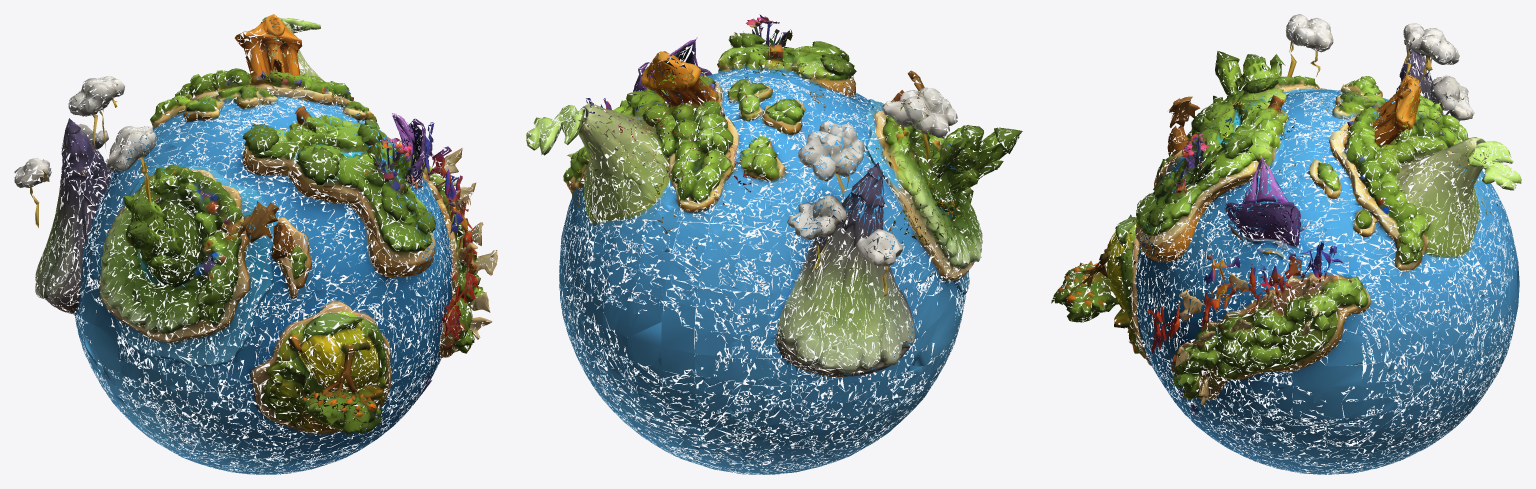
The model's file is planeta.glb.
3 views of the same model, side by side, from view 1: azimuth 30°, elevation 25°; view 2: azimuth 150°, elevation 25°; view 3: azimuth 270°, elevation 25° (orthographic). The views are drawn at different scales.
Visible parts, largest first — view 1: SM_Planeta; view 2: SM_Planeta; view 3: SM_Planeta.
Part boxes in pixels (box(x1,y1,x2,y2)): SM_Planeta: box(14, 14, 497, 474); SM_Planeta: box(526, 14, 1022, 474); SM_Planeta: box(1051, 14, 1521, 474).
Bounding box in the file's own units: 2.19 × 2.2 × 2.34.
1 material, 1 textured.
